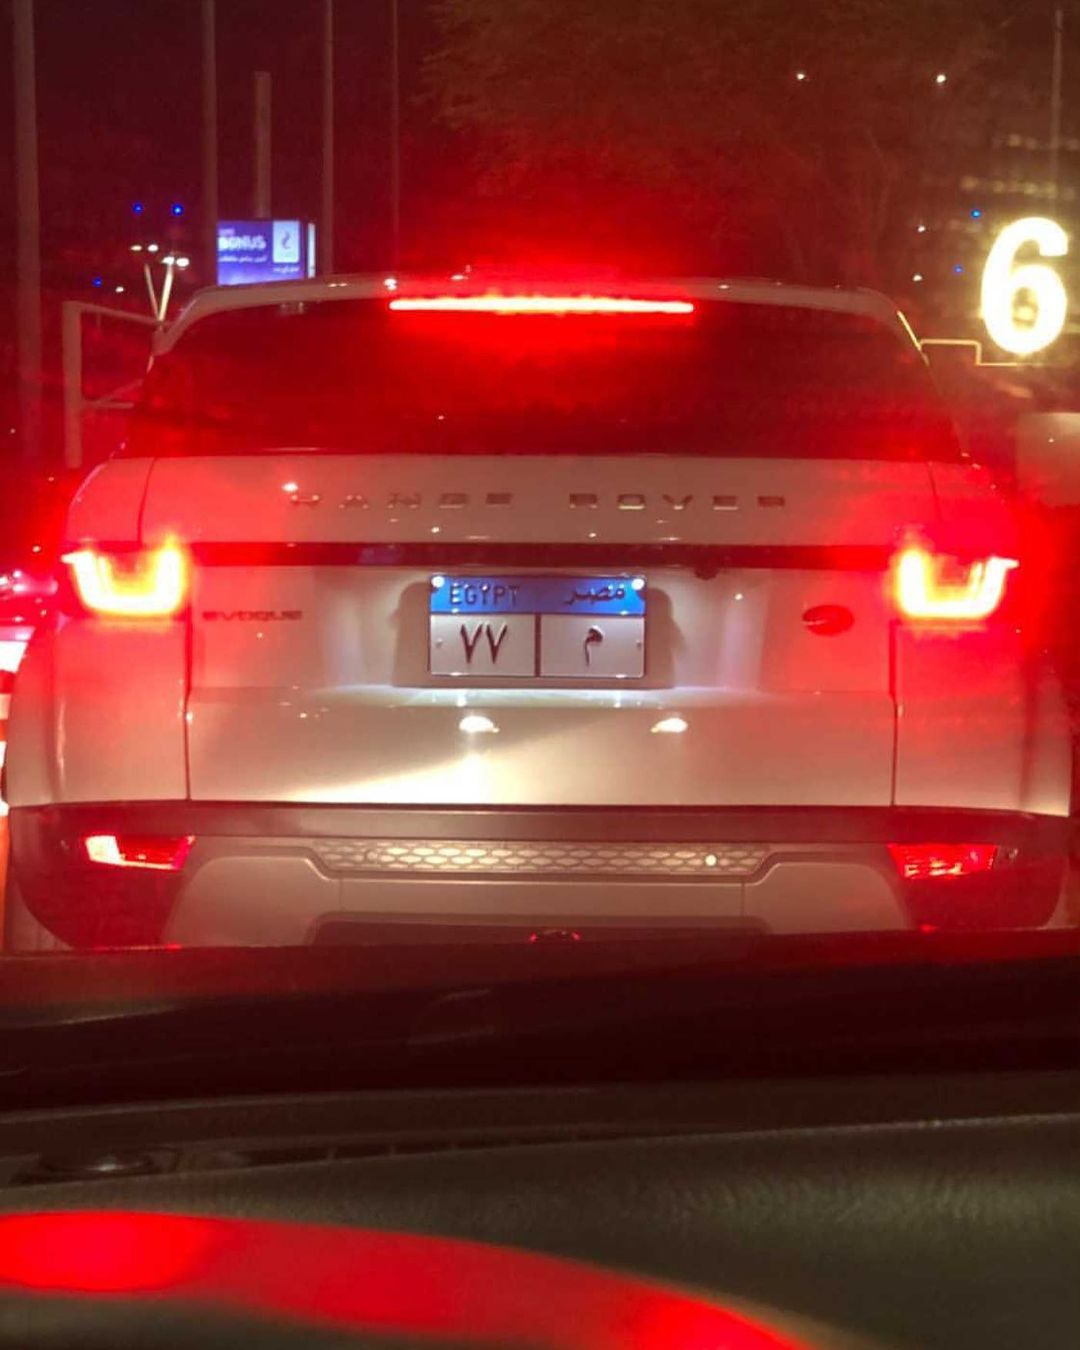carpl: (413, 560, 655, 685)
